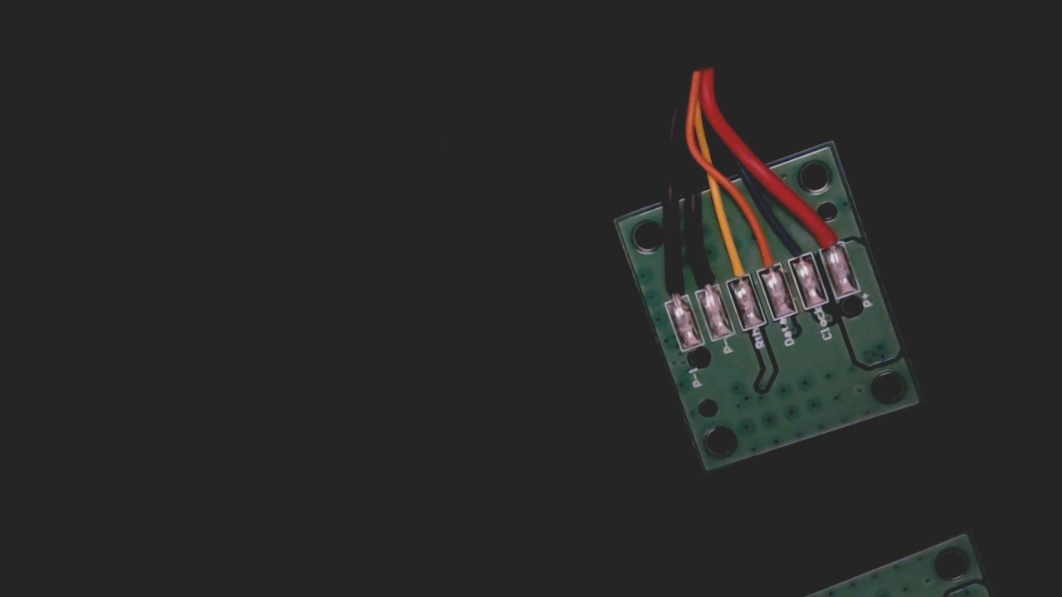Black: (682, 244, 725, 305)
Black1: (647, 254, 692, 316)
Green: (774, 218, 818, 275)
Orange: (745, 228, 787, 285)
Red: (804, 200, 850, 264)
Yellow: (714, 236, 753, 294)
